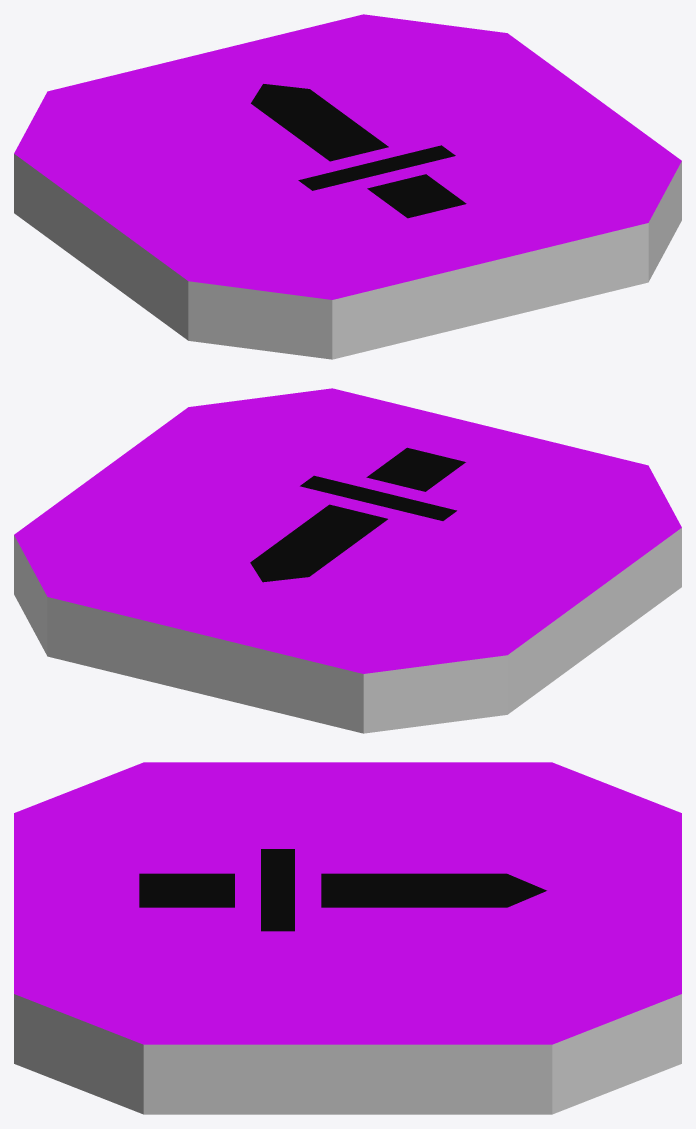
The model's file is prizeSword.glb.
3 views of the same model, one above another, from view 1: azimuth 30°, elevation 25°; view 2: azimuth 150°, elevation 25°; view 3: azimuth 270°, elevation 25° (orthographic). The views are drawn at different scales.
Visible parts, largest first — view 1: prize, icon; view 2: prize, icon; view 3: prize, icon.
Part boxes in pixels (left/top/right/bottom): prize: left=14, top=14, right=681, bottom=359; icon: left=251, top=84, right=466, bottom=218; prize: left=14, top=388, right=681, bottom=733; icon: left=250, top=447, right=465, bottom=582; prize: left=14, top=762, right=681, bottom=1114; icon: left=139, top=849, right=546, bottom=931.
Size of the model in its own units: 4.29 by 0.5869 by 4.29.
